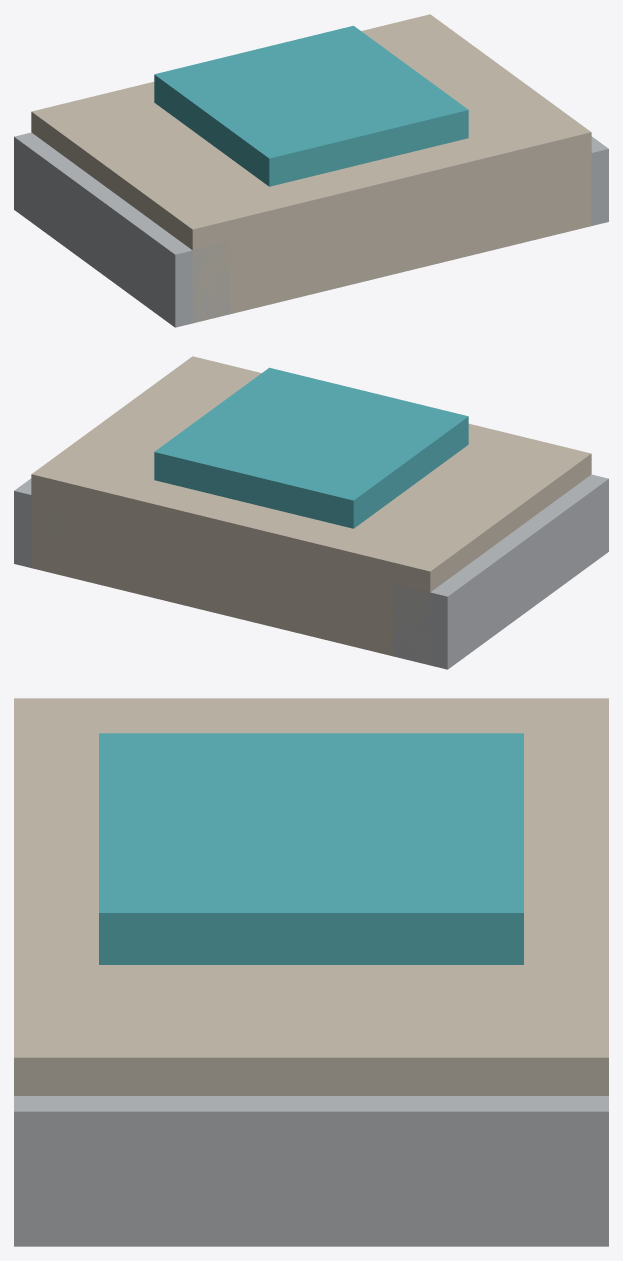
Rendered from 123_L111_LED1.glb.
3 renders of one model, top to bottom at view 1: azimuth 30°, elevation 25°; view 2: azimuth 150°, elevation 25°; view 3: azimuth 270°, elevation 25°, orthographic. The views are drawn at different scales.
Parts seen in each view (by area): view 1: Ceramic_Ivory, Signal_Cyan, Tin_Solder; view 2: Ceramic_Ivory, Signal_Cyan, Tin_Solder; view 3: Ceramic_Ivory, Signal_Cyan, Tin_Solder.
Boxes of the visible parts, left/top/right/bottom form: Ceramic_Ivory: left=31, top=14, right=591, bottom=323; Signal_Cyan: left=154, top=25, right=468, bottom=186; Tin_Solder: left=14, top=132, right=608, bottom=327; Ceramic_Ivory: left=31, top=356, right=591, bottom=664; Signal_Cyan: left=154, top=367, right=468, bottom=528; Tin_Solder: left=14, top=474, right=608, bottom=669; Ceramic_Ivory: left=14, top=698, right=608, bottom=1095; Signal_Cyan: left=99, top=733, right=523, bottom=964; Tin_Solder: left=14, top=1096, right=608, bottom=1246.
Bounding box in the file's own units: 0.00435 × 0.00118 × 0.0028.
